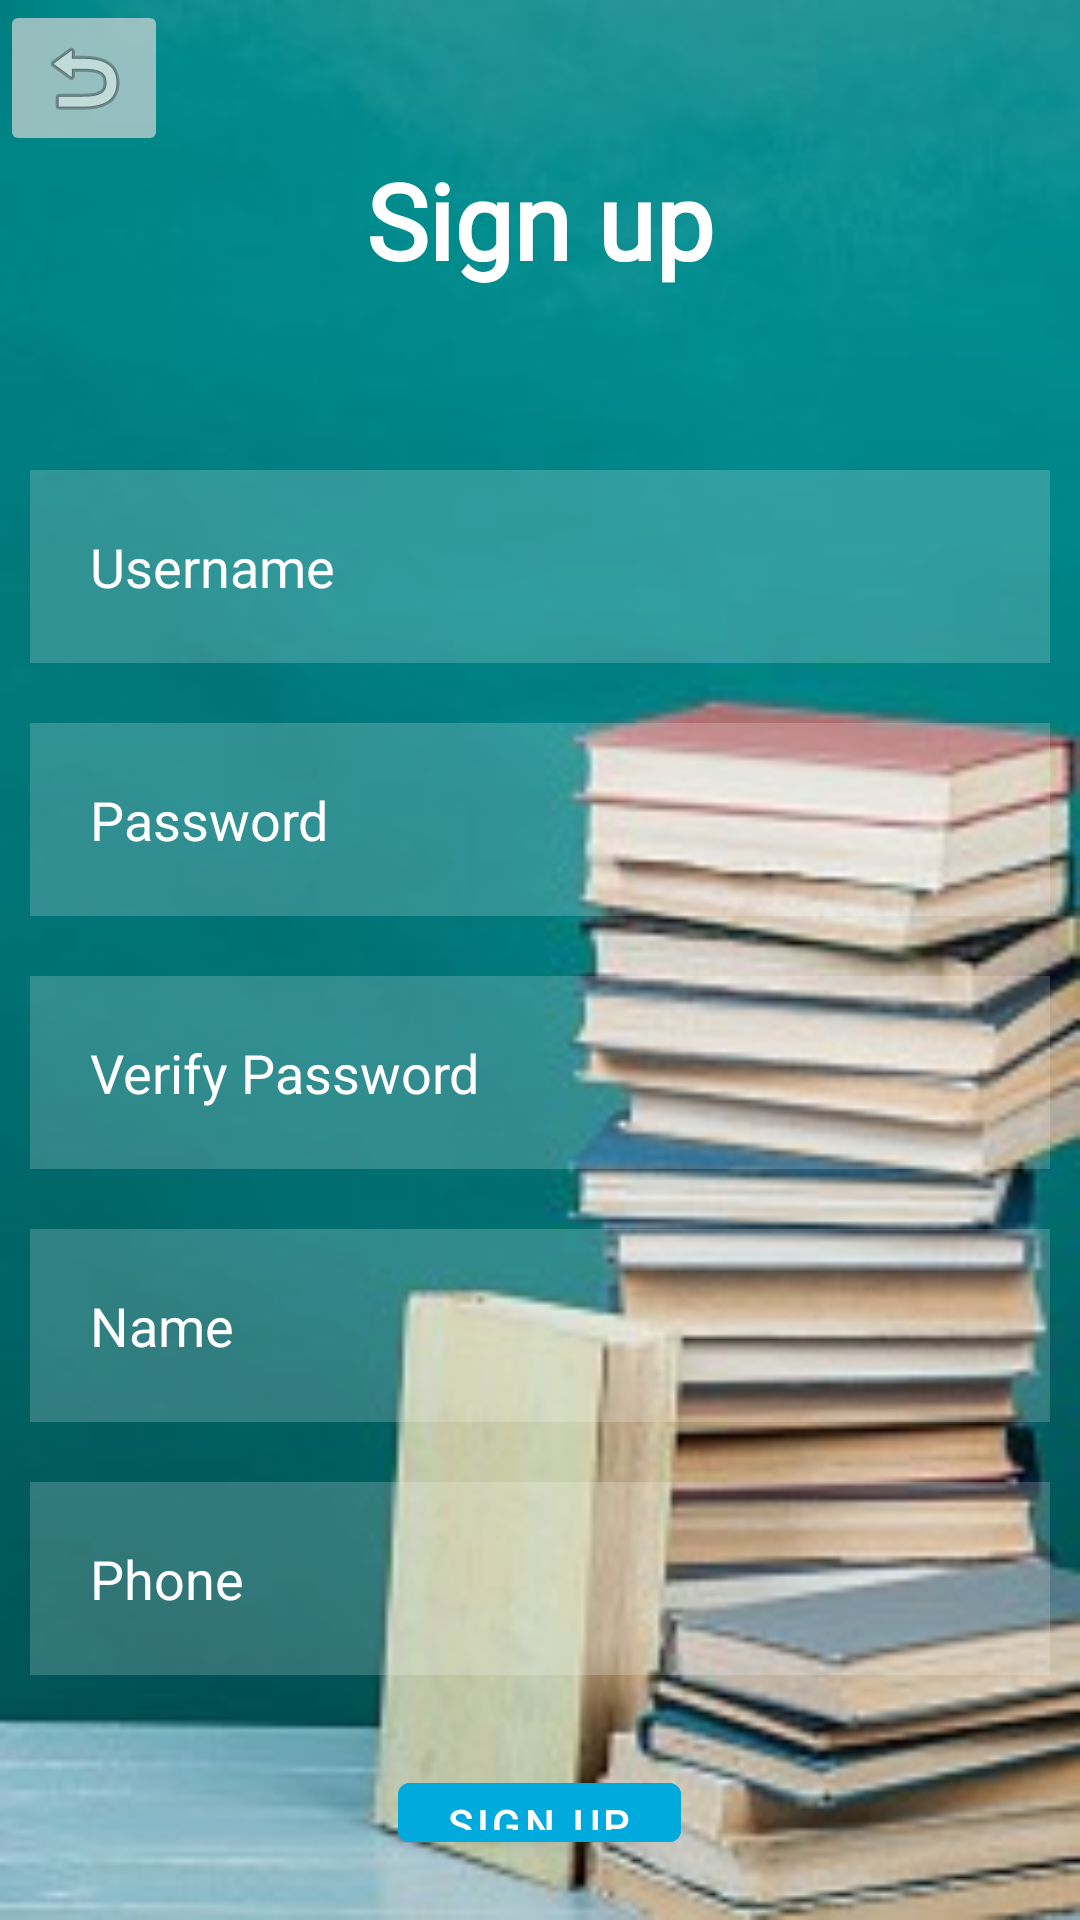

Icons on this 1080*1920 Android screen, each with its box as box(x1, y1, x2, y2):
revert: box(12, 18, 156, 138)
